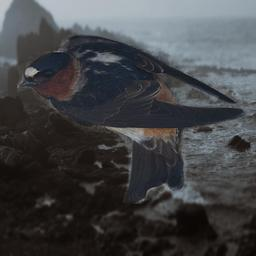Swallow: (17, 31, 249, 204)
